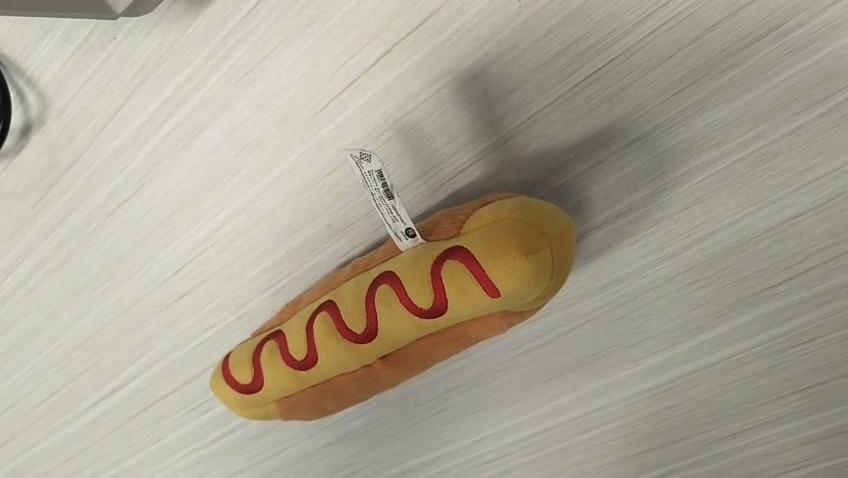hotdog: (209, 189, 577, 421)
